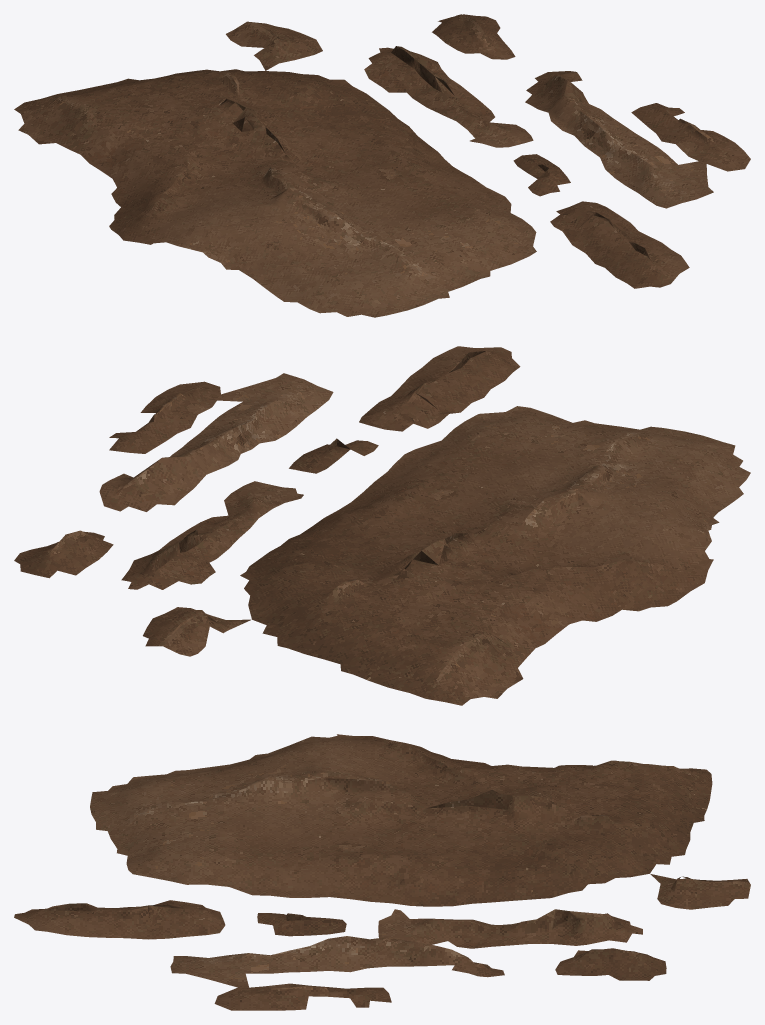
File: root_cluster_02.glb
3 renders of one model, top to bottom at view 1: azimuth 30°, elevation 25°; view 2: azimuth 150°, elevation 25°; view 3: azimuth 270°, elevation 25°, orthographic. The views are drawn at different scales.
Parts seen in each view (by area): view 1: mesh; view 2: mesh; view 3: mesh.
Part boxes in pixels (left/top/right/bottom): mesh: left=14, top=14, right=750, bottom=317; mesh: left=14, top=346, right=750, bottom=705; mesh: left=14, top=734, right=750, bottom=1010.
Bounding box in the file's own units: 2.56 × 0.1986 × 2.92.
1 material, 1 textured.
